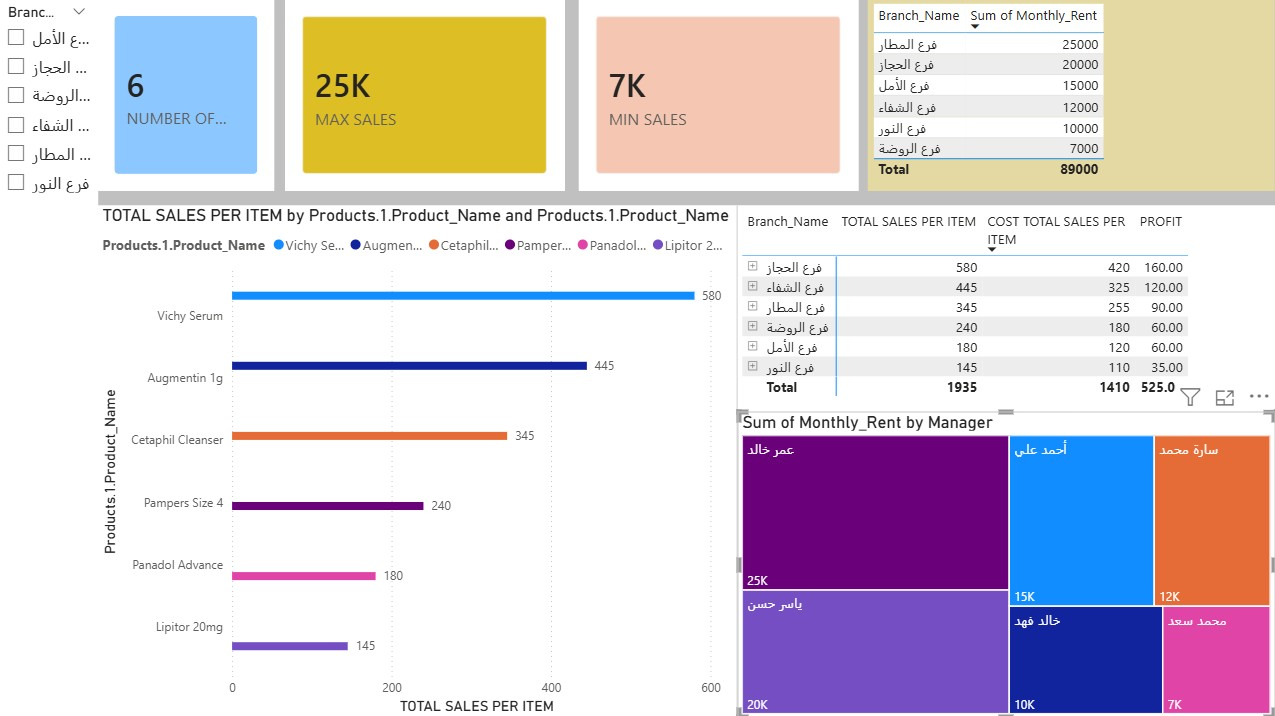

What the dashboard file says about the page in this screenshot:
{"tool":"powerbi","page":{"name":"Page 1","canvas":[1280,720],"ordinal":0},"visuals":[{"type":"cardVisual","fields":{"Data":["mesure.NUMBER OF BRANCHES"]},"box":[103,0,177,192],"z":0},{"type":"cardVisual","fields":{"Data":["mesure.MAX SALES"]},"box":[289.5,0,279.9,192.1],"z":1000},{"type":"cardVisual","fields":{"Data":["mesure.MIN SALES"]},"box":[583.2,0,279.9,192.1],"z":2000},{"type":"clusteredBarChart","fields":{"Category":["branches.Products.1.Product_Name"],"Y":["mesure.TOTAL SALES PER ITEM"],"Series":["branches.Products.1.Product_Name"]},"box":[103,206,639,514],"z":3000},{"type":"tableEx","fields":{"Values":["branches.Branch_Name","Sum(branches.Monthly_Rent)"]},"box":[872.7,0,407.5,192.1],"z":4000},{"type":"pivotTable","fields":{"Rows":["branches.Branch_Name","branches.Products.1.Product_Name"],"Values":["mesure.TOTAL SALES PER ITEM","mesure.COST TOTAL SALES PER ITEM","select"]},"box":[742.4,205.8,537.9,207.2],"z":5000},{"type":"treemap","fields":{"Group":["branches.Manager"],"Values":["Sum(branches.Monthly_Rent)"]},"box":[742.4,413,537.9,307.4],"z":6000},{"type":"slicer","fields":{"Values":["branches.Branch_Name"]},"box":[0,0,103,720],"z":6001}]}

Visuals, with their boxes in screenshot pixels (x1, y1, x2, y2), scaled from the page's 1280x720 canvas onto the 1275x716 screenshot:
cardVisual - mesure.NUMBER OF BRANCHES: pyautogui.locateOnScreen(103, 0, 279, 191)
cardVisual - mesure.MAX SALES: pyautogui.locateOnScreen(288, 0, 567, 191)
cardVisual - mesure.MIN SALES: pyautogui.locateOnScreen(581, 0, 860, 191)
clusteredBarChart - branches.Products.1.Product_Name x mesure.TOTAL SALES PER ITEM: pyautogui.locateOnScreen(103, 205, 739, 715)
tableEx - branches.Branch_Name x Sum(branches.Monthly_Rent): pyautogui.locateOnScreen(869, 0, 1274, 191)
pivotTable - branches.Branch_Name x branches.Products.1.Product_Name: pyautogui.locateOnScreen(740, 205, 1274, 411)
treemap - branches.Manager x Sum(branches.Monthly_Rent): pyautogui.locateOnScreen(740, 411, 1274, 715)
slicer - branches.Branch_Name: pyautogui.locateOnScreen(0, 0, 103, 715)
